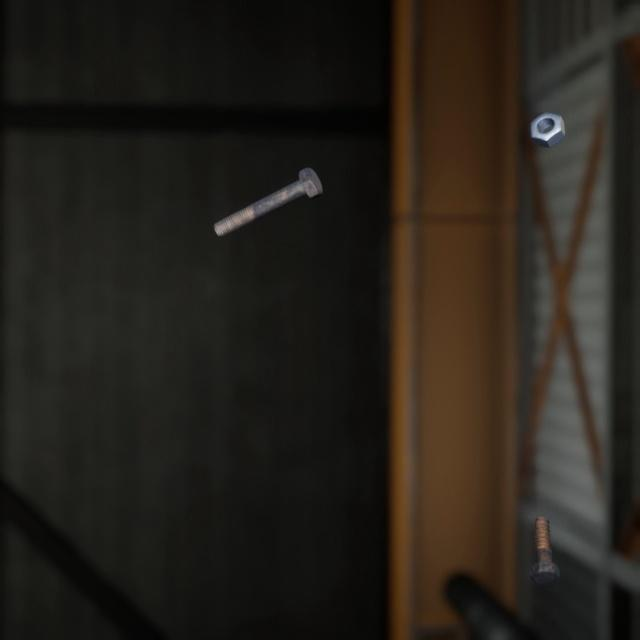bolt: (209, 147, 327, 226), (524, 489, 563, 566)
nut: (526, 95, 569, 139)
